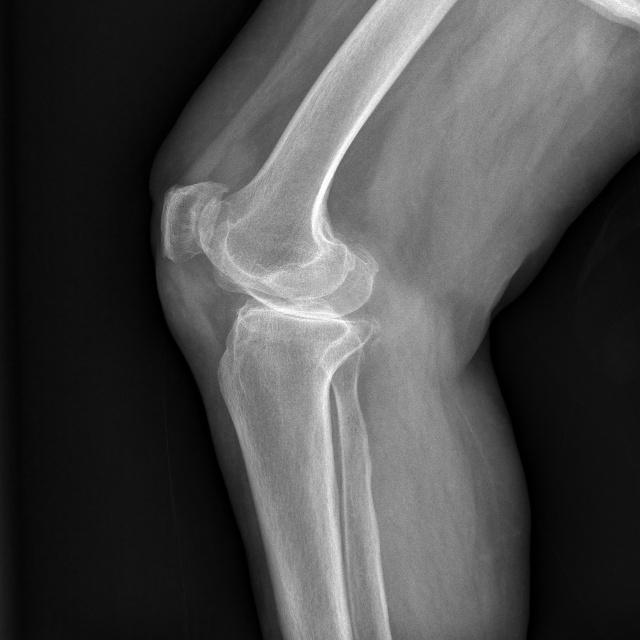Knee: (160, 181, 378, 381)
